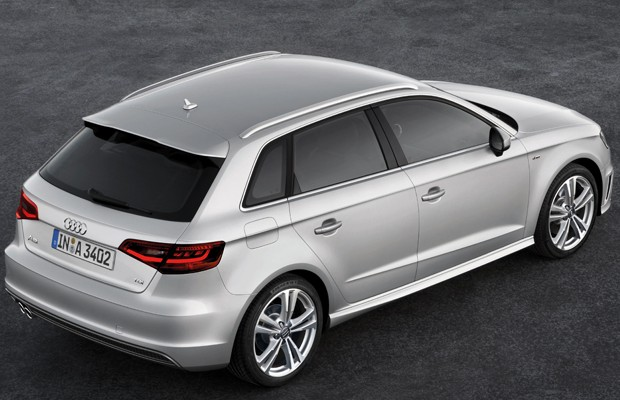Carro: (2, 39, 617, 381)
